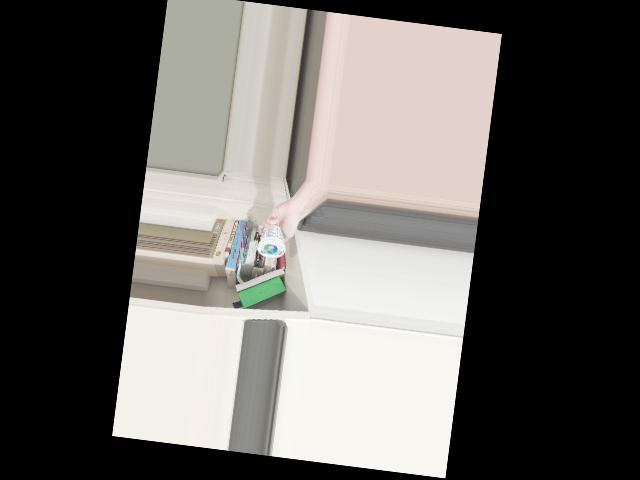cotage: (255, 218, 288, 260)
